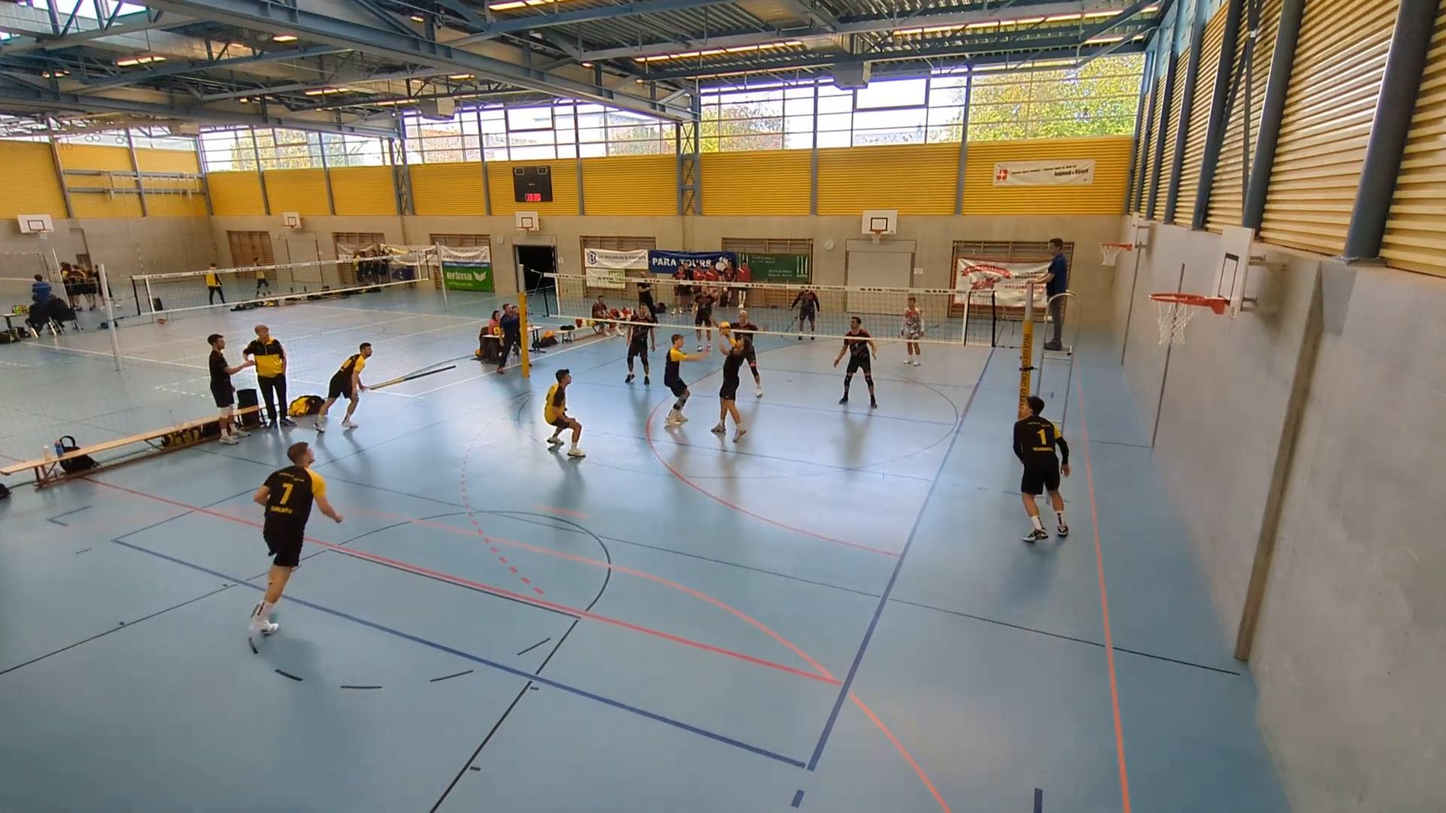Player: (249, 442, 342, 638), (1013, 396, 1069, 543), (314, 343, 371, 431), (833, 316, 877, 407), (664, 334, 705, 426), (544, 369, 585, 458), (731, 309, 763, 397), (625, 306, 656, 384), (901, 297, 924, 366), (790, 288, 819, 340), (694, 285, 716, 352)
Set: (718, 329, 756, 444)
